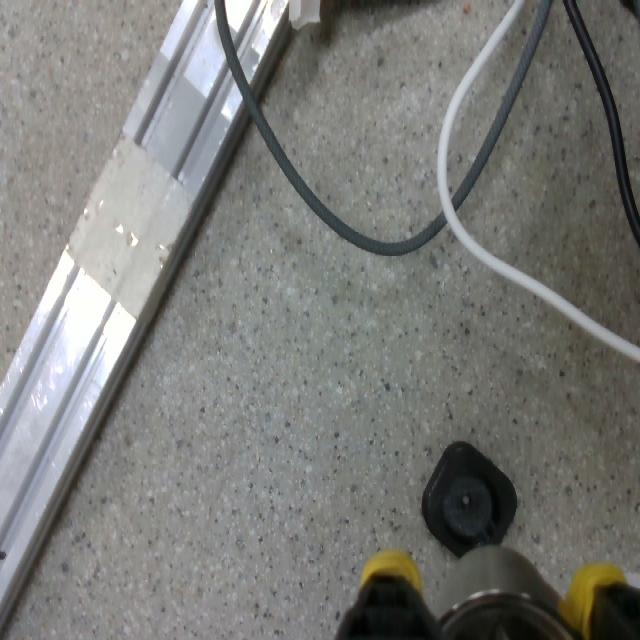cell: (421, 441, 518, 556)
